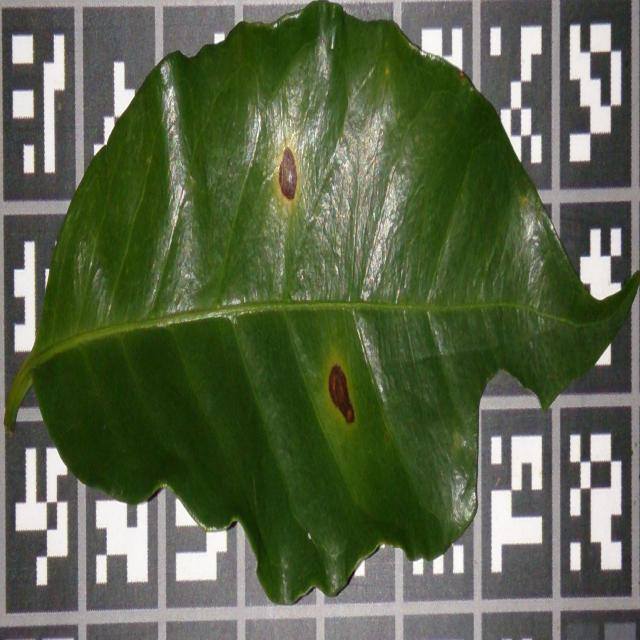Enfermedad-Mancha-de-hierro: (13, 5, 640, 605)
